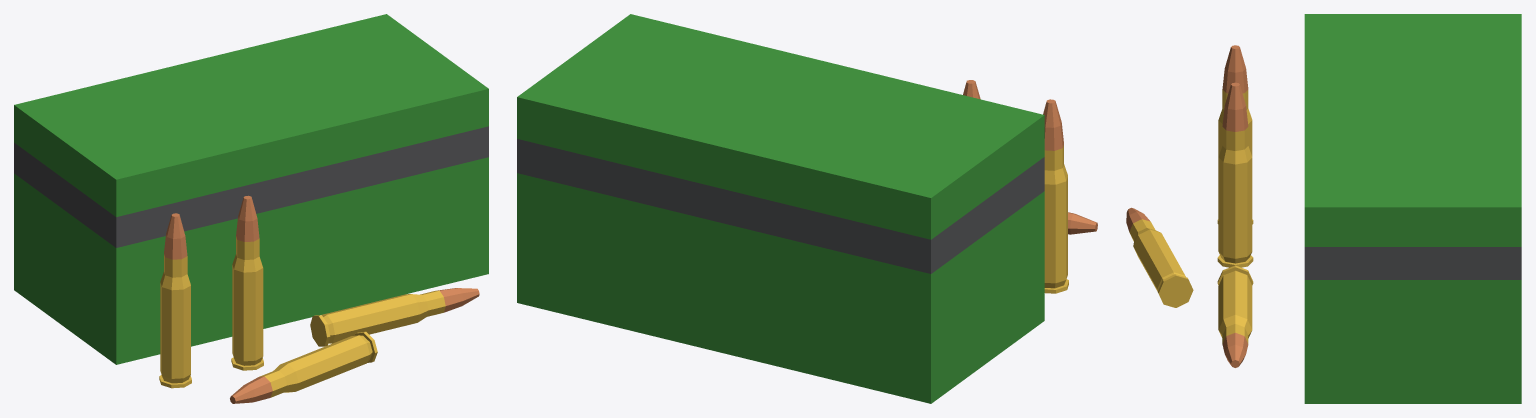
File: amunicja-308-Dwt8lKgF.glb
3 renders of one model, left to right at view 1: azimuth 30°, elevation 25°; view 2: azimuth 150°, elevation 25°; view 3: azimuth 270°, elevation 25°, orthographic. The views are drawn at different scales.
Parts seen in each view (by area): view 1: Ammo_sniper; view 2: Ammo_sniper; view 3: Ammo_sniper.
Part boxes in pixels (box(x1,y1,x2,y2)): Ammo_sniper: box(14, 14, 488, 403); Ammo_sniper: box(517, 14, 1097, 403); Ammo_sniper: box(1126, 14, 1521, 403).
Bounding box in the file's own units: 0.2682 × 0.1274 × 0.2321.
